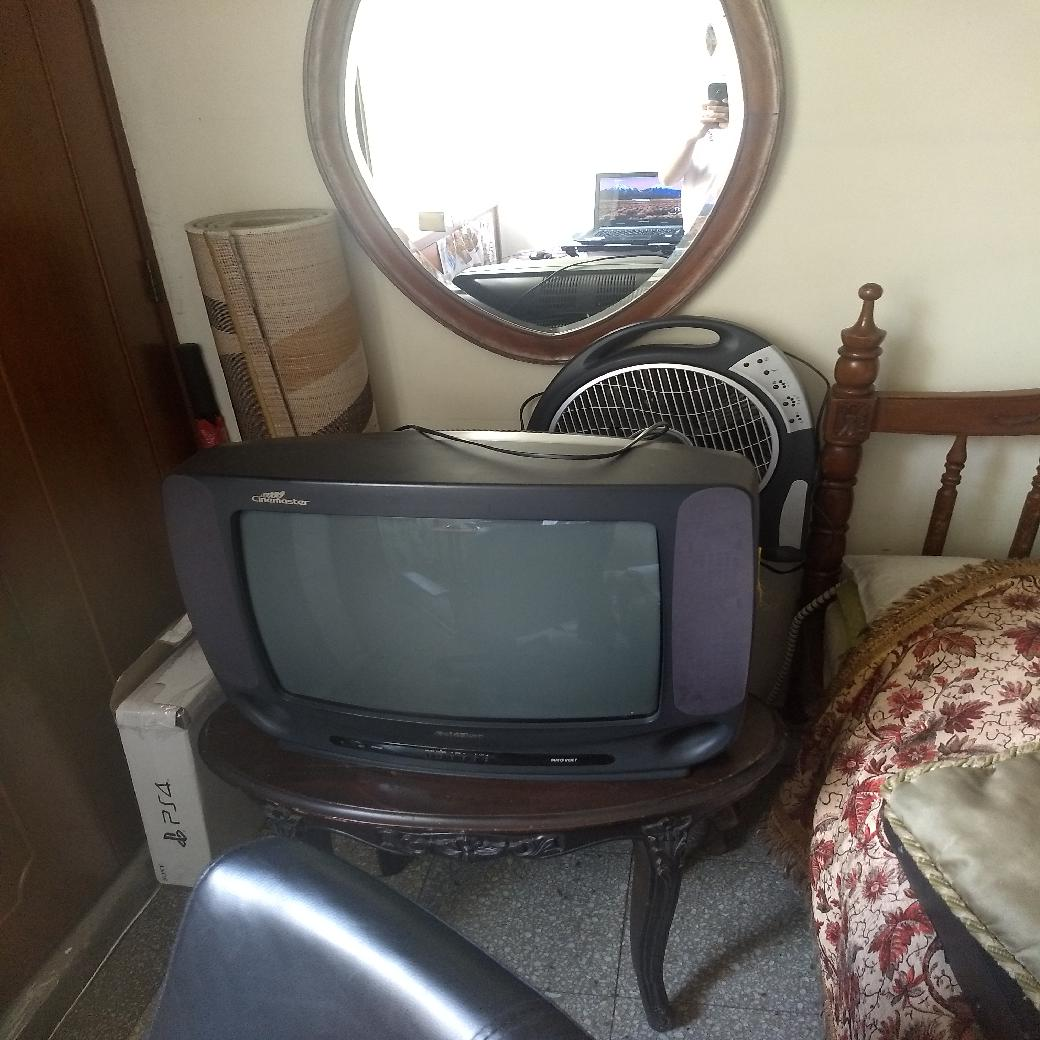tv: (151, 432, 761, 767)
